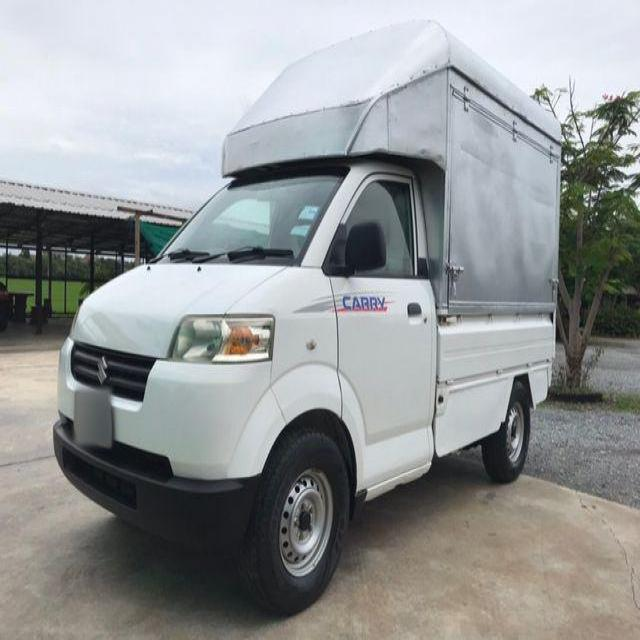front_bumper: (51, 344, 283, 546)
front_glass: (156, 168, 349, 271)
front_left_door: (322, 174, 432, 491)
front_left_light: (170, 313, 275, 364)
hood: (68, 262, 285, 359)
trunk: (435, 314, 557, 460)
wheel: (239, 380, 530, 615)
